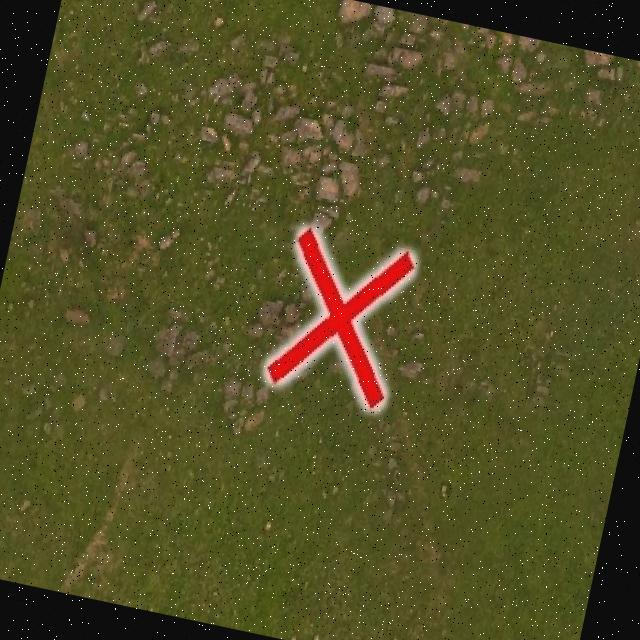x_marker: (262, 226, 416, 408)
